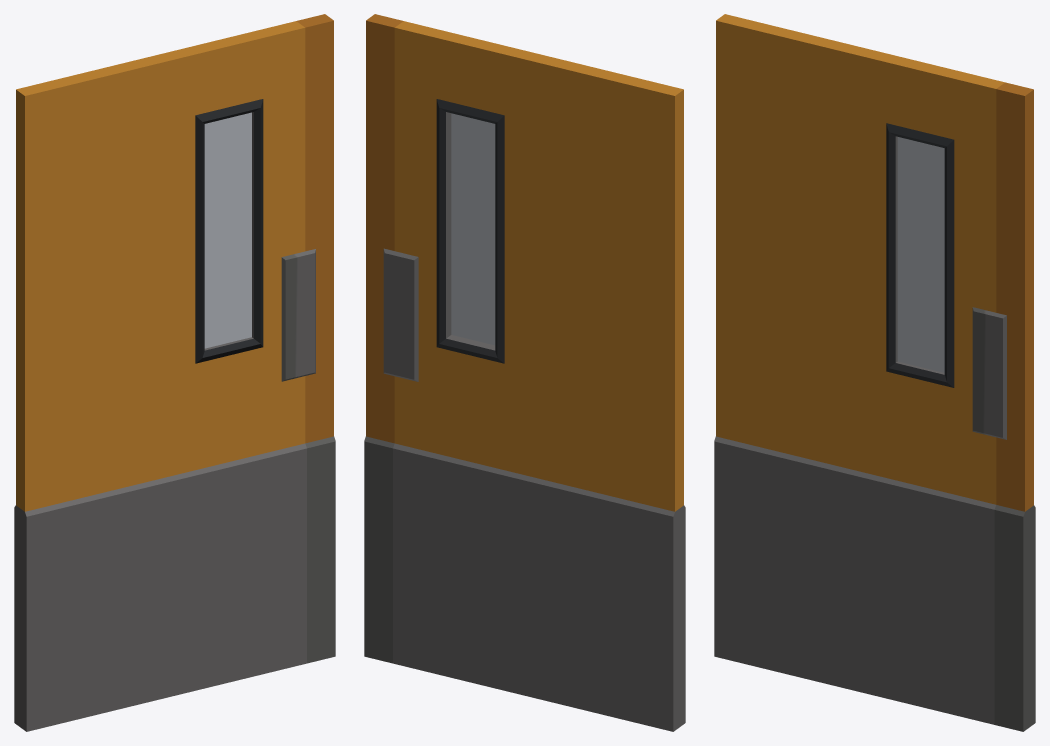
Rendered from SM_Bld_Door_02.fbx.
3 renders of one model, left to right at view 1: azimuth 30°, elevation 25°; view 2: azimuth 150°, elevation 25°; view 3: azimuth 330°, elevation 25°, orthographic.
Visible parts, largest first — view 1: SM_Bld_Door_02; view 2: SM_Bld_Door_02; view 3: SM_Bld_Door_02.
Boxes of the visible parts, <box> form: SM_Bld_Door_02: <box>14,14,335,731</box>; SM_Bld_Door_02: <box>364,14,685,731</box>; SM_Bld_Door_02: <box>714,14,1035,731</box>.
Bounding box in the file's own units: 100 × 197 × 7.73.
